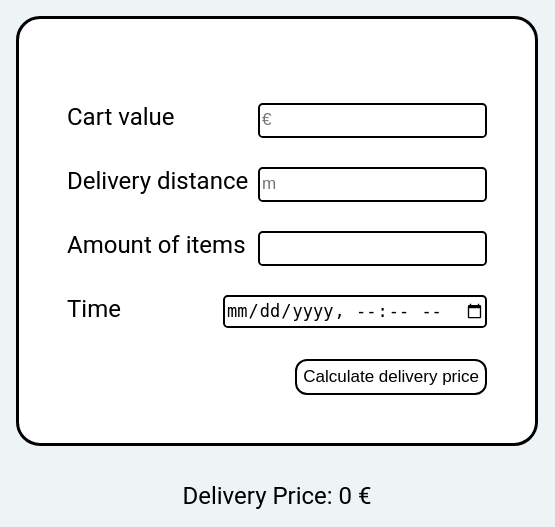
Test: SURCHARGE ADDED: ITEMS IS MORE THAN 5
The width and height of the screenshot is (555, 527).
In the number field with test id "cart-value": (372,120) 258,103 -> 487,138, type "10"
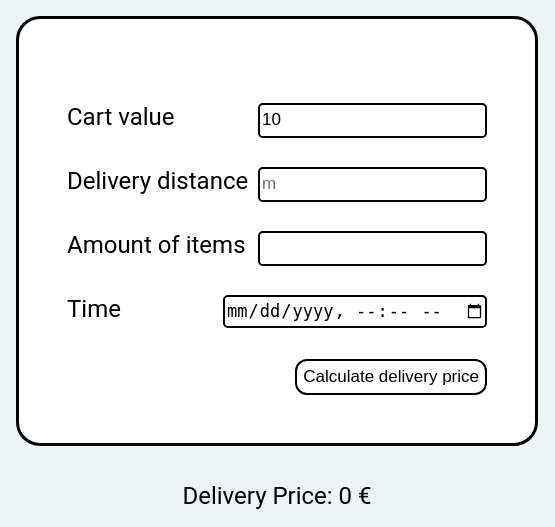
In the number field with test id "delivery-distance": (372,184) 258,167 -> 487,202, type "1000"
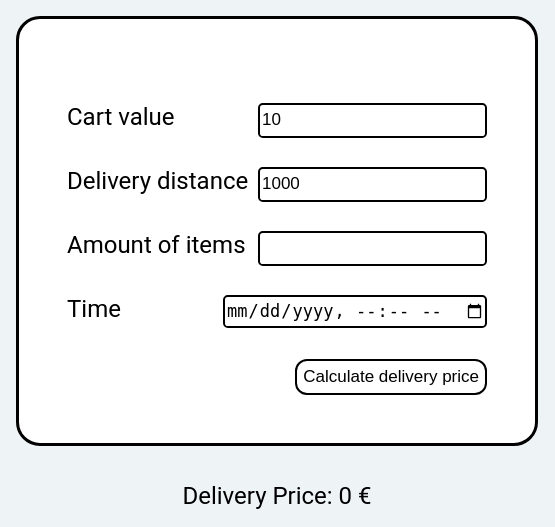
In the number field with test id "items": (372,248) 258,231 -> 487,266, type "5"
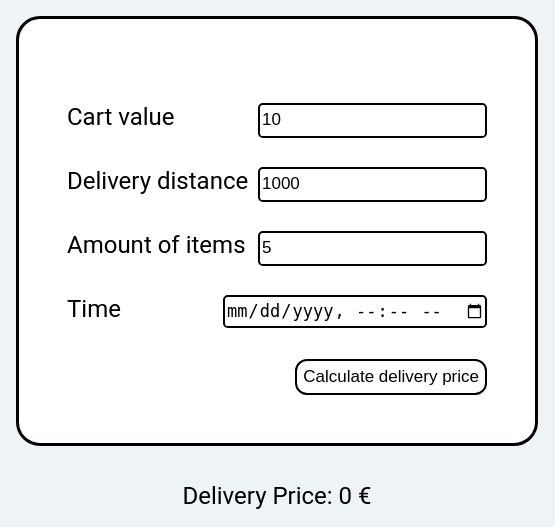
In the field with test id "time": (355,311) 223,295 -> 487,328, type "2021-10-19T14:33"
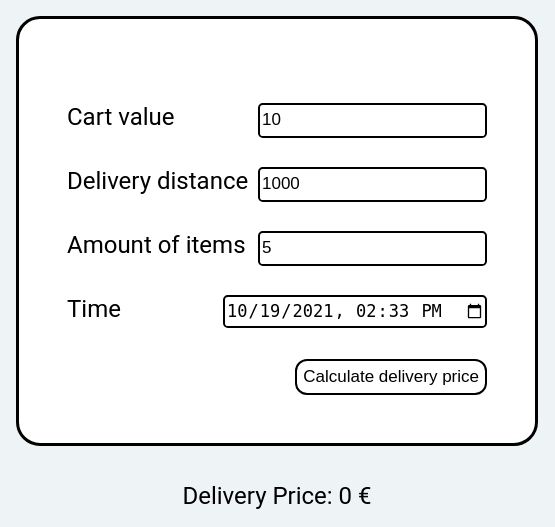
Click the button with test id "btn-submit": (391,377) 295,359 -> 487,395
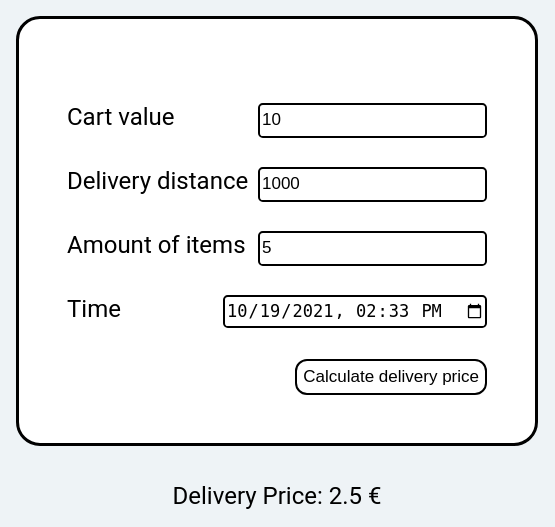
Check: the text with test id "delivery-fee" reads "2.5", box 329,482 -> 362,510
